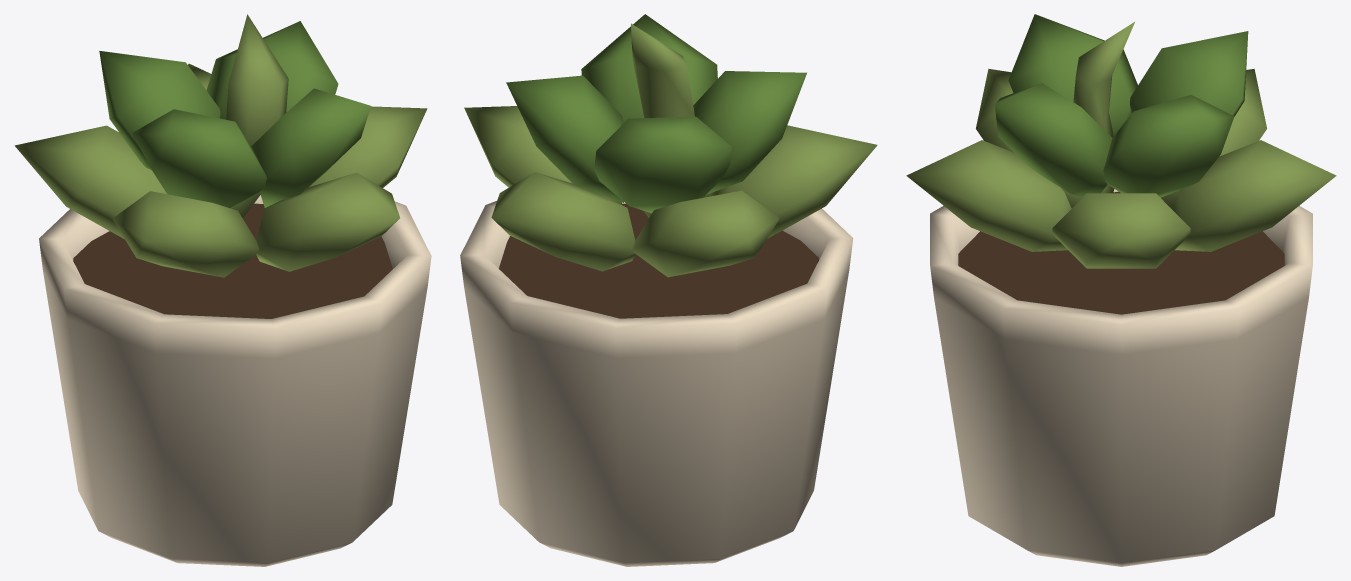
Rendered from succulent.glb.
3 views of the same model, side by side, from view 1: azimuth 30°, elevation 25°; view 2: azimuth 150°, elevation 25°; view 3: azimuth 270°, elevation 25° (orthographic).
Visible parts, largest first — view 1: succulent_pot, succulent_soil, succulent_rosette_0_4, succulent_rosette_1_2, succulent_rosette_0_3, succulent_rosette_0_2, succulent_rosette_1_3, succulent_rosette_1_1, succulent_central_leaf, succulent_rosette_0_0, succulent_rosette_1_0, succulent_rosette_0_1; view 2: succulent_pot, succulent_soil, succulent_rosette_1_1, succulent_rosette_0_1, succulent_rosette_0_2, succulent_rosette_0_3, succulent_rosette_1_0, succulent_rosette_1_2, succulent_rosette_1_3, succulent_rosette_0_0, succulent_central_leaf; view 3: succulent_pot, succulent_soil, succulent_rosette_0_4, succulent_rosette_0_1, succulent_rosette_1_0, succulent_rosette_1_3, succulent_rosette_0_0, succulent_rosette_1_1, succulent_rosette_1_2, succulent_central_leaf, succulent_rosette_0_2, succulent_rosette_0_3.
Part boxes in pixels (bbox=[...]): succulent_pot: bbox=[39, 195, 431, 566]; succulent_soil: bbox=[73, 203, 392, 318]; succulent_rosette_0_4: bbox=[256, 172, 399, 271]; succulent_rosette_1_2: bbox=[132, 109, 266, 208]; succulent_rosette_0_3: bbox=[112, 191, 259, 277]; succulent_rosette_0_2: bbox=[14, 125, 166, 239]; succulent_rosette_1_3: bbox=[251, 88, 370, 207]; succulent_rosette_1_1: bbox=[99, 51, 220, 169]; succulent_central_leaf: bbox=[226, 14, 288, 146]; succulent_rosette_0_0: bbox=[309, 106, 427, 187]; succulent_rosette_1_0: bbox=[206, 21, 338, 119]; succulent_rosette_0_1: bbox=[188, 63, 260, 218]; succulent_pot: bbox=[460, 201, 853, 566]; succulent_soil: bbox=[499, 203, 818, 318]; succulent_rosette_1_1: bbox=[594, 116, 731, 213]; succulent_rosette_0_1: bbox=[491, 172, 635, 271]; succulent_rosette_0_2: bbox=[632, 190, 779, 277]; succulent_rosette_0_3: bbox=[709, 125, 877, 238]; succulent_rosette_1_0: bbox=[506, 75, 623, 202]; succulent_rosette_1_2: bbox=[693, 71, 806, 194]; succulent_rosette_1_3: bbox=[581, 14, 717, 122]; succulent_rosette_0_0: bbox=[464, 106, 621, 204]; succulent_central_leaf: bbox=[631, 23, 694, 118]; succulent_pot: bbox=[930, 189, 1312, 566]; succulent_soil: bbox=[958, 191, 1284, 314]; succulent_rosette_0_4: bbox=[906, 140, 1071, 251]; succulent_rosette_0_1: bbox=[1171, 140, 1336, 251]; succulent_rosette_1_0: bbox=[1103, 95, 1234, 197]; succulent_rosette_1_3: bbox=[994, 83, 1112, 197]; succulent_rosette_0_0: bbox=[1052, 193, 1190, 268]; succulent_rosette_1_1: bbox=[1130, 31, 1248, 116]; succulent_rosette_1_2: bbox=[1008, 14, 1137, 135]; succulent_central_leaf: bbox=[1073, 22, 1134, 137]; succulent_rosette_0_2: bbox=[1161, 68, 1266, 208]; succulent_rosette_0_3: bbox=[976, 68, 1114, 208].
Bounding box in the file's own units: 0.153 × 0.195 × 0.1541.
